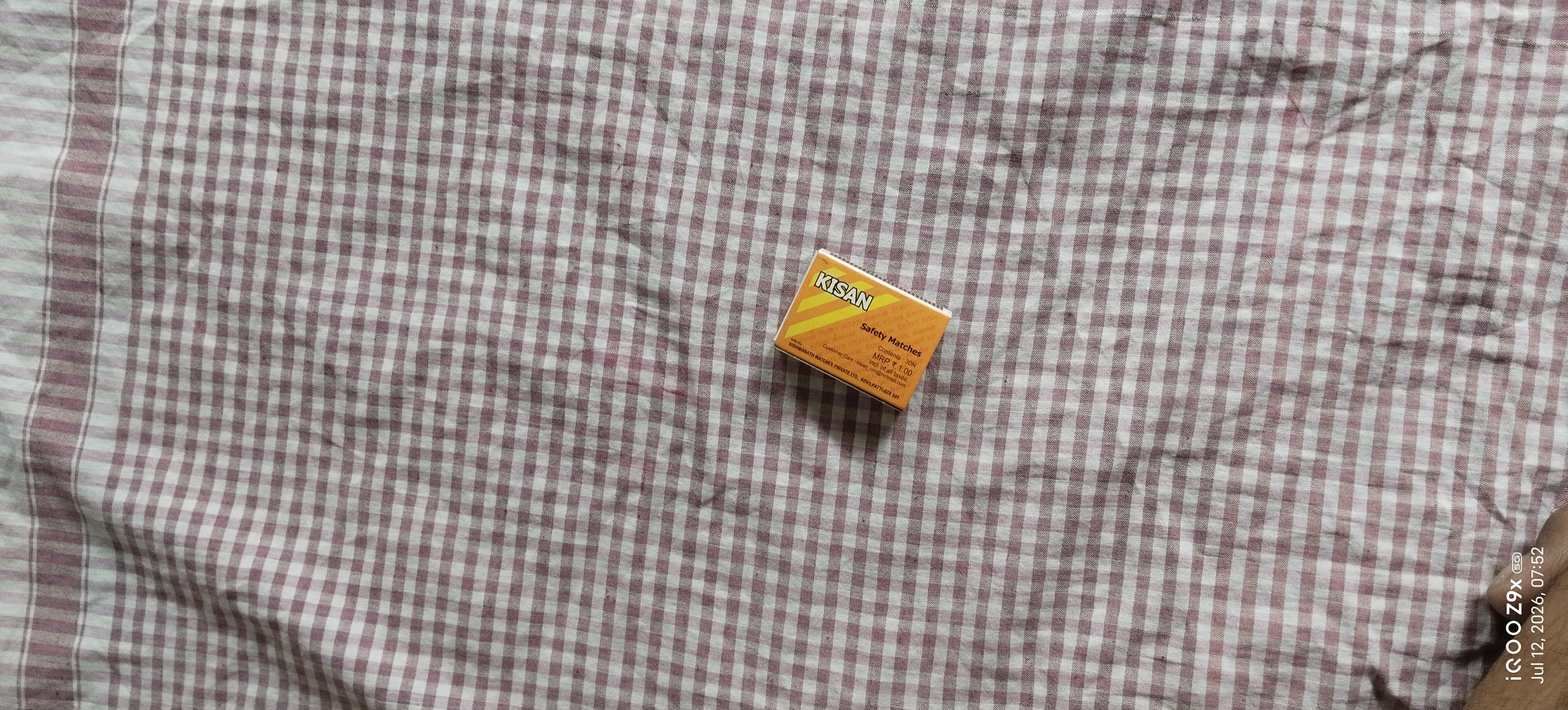matchbox: (741, 215, 983, 459)
